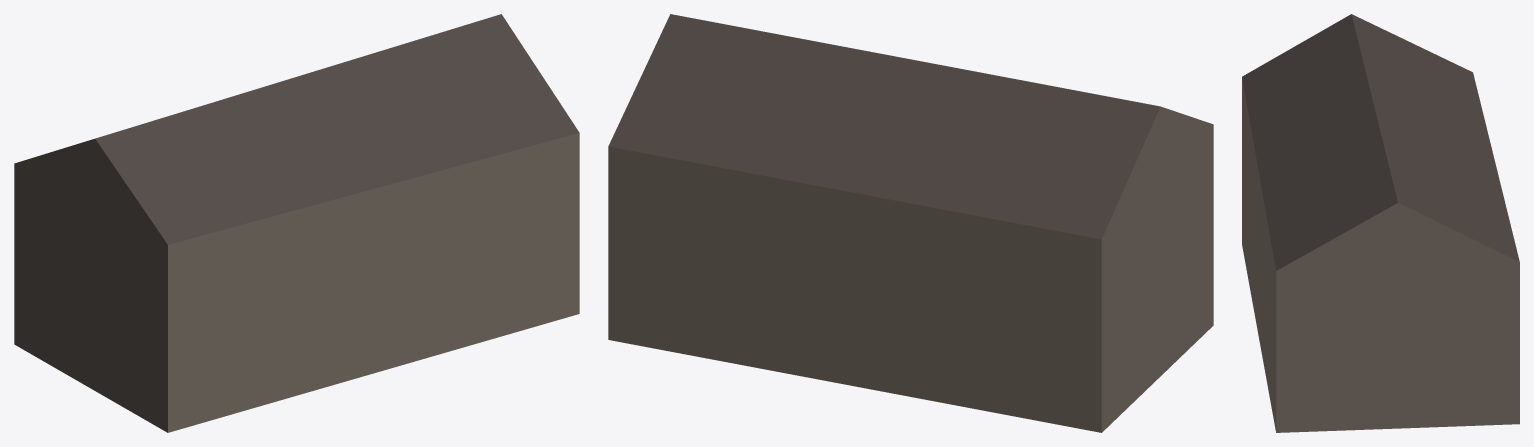
The picture shows the model from 3 angles, left to right: view 1: azimuth 30°, elevation 25°; view 2: azimuth 150°, elevation 25°; view 3: azimuth 270°, elevation 25°; orthographic projection. The views are drawn at different scales.
Parts seen in each view (by area): view 1: HP-w1512965885; view 2: HP-w1512965885; view 3: HP-w1512965885.
Boxes of the visible parts, x1=… form: HP-w1512965885: x1=14, y1=14, x2=579, y2=432; HP-w1512965885: x1=608, y1=14, x2=1213, y2=432; HP-w1512965885: x1=1242, y1=14, x2=1519, y2=432.
Bounding box in the file's own units: 23.71 × 12.56 × 14.
